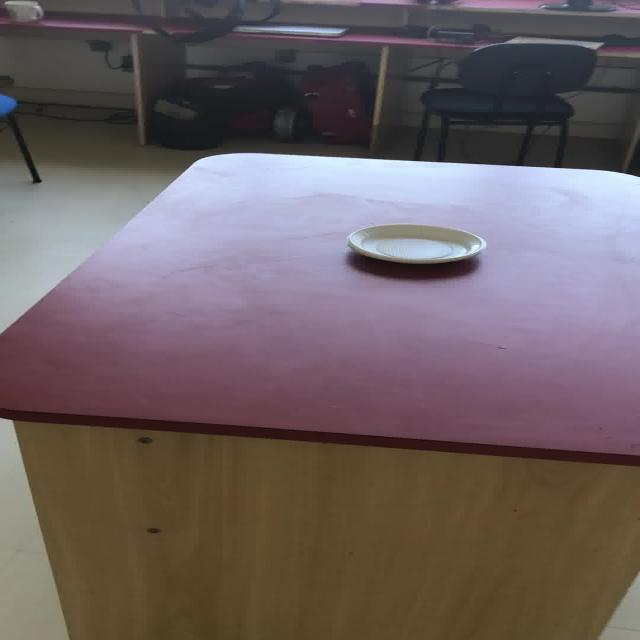plate: (345, 223, 486, 264)
